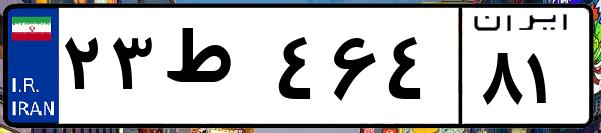1: (525, 38, 570, 115)
2: (57, 26, 110, 100)
3: (110, 28, 158, 98)
4: (270, 28, 330, 110), (385, 28, 445, 110)
6: (330, 28, 385, 110)
8: (475, 38, 525, 113)
ط: (158, 20, 270, 120)
